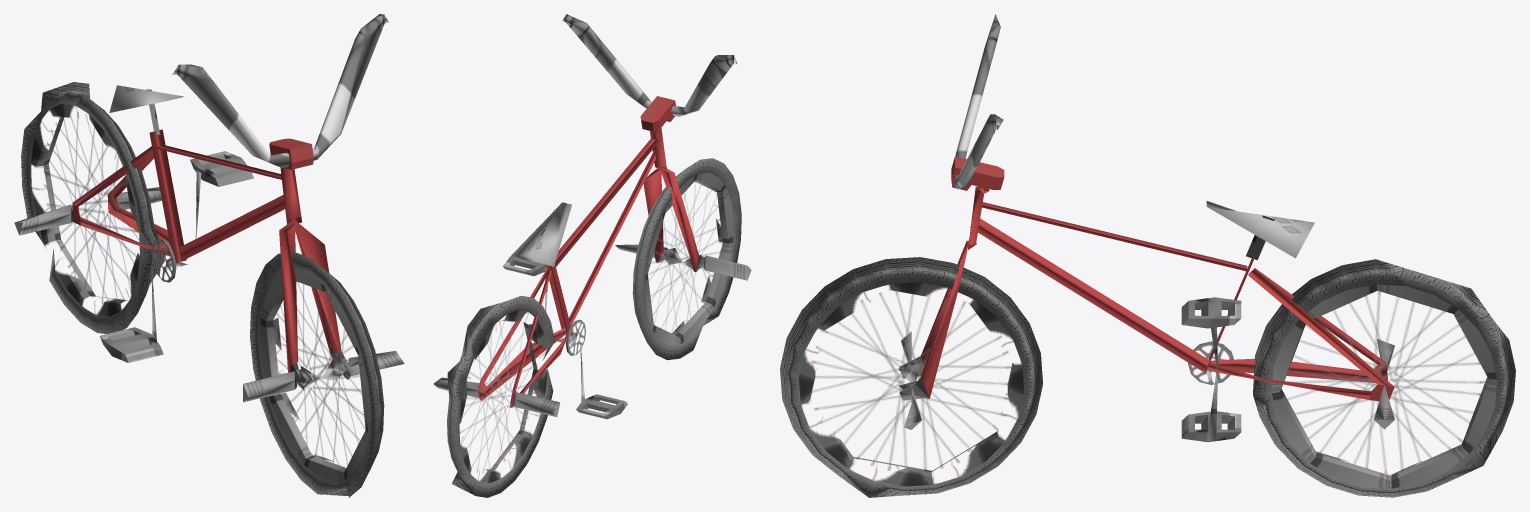
File: Bicycle.glb
The picture shows the model from 3 angles, left to right: view 1: azimuth 30°, elevation 25°; view 2: azimuth 150°, elevation 25°; view 3: azimuth 270°, elevation 25°; orthographic projection. The views are drawn at different scales.
Parts seen in each view (by area): view 1: Bicycle; view 2: Bicycle; view 3: Bicycle.
Part boxes in pixels (x1,y1,x2,y2): Bicycle: (14, 14, 404, 497); Bicycle: (433, 14, 751, 497); Bicycle: (780, 14, 1515, 497).
Bounding box in the file's own units: 0.00523 × 0.00972 × 0.0149.
1 material, 1 textured.
